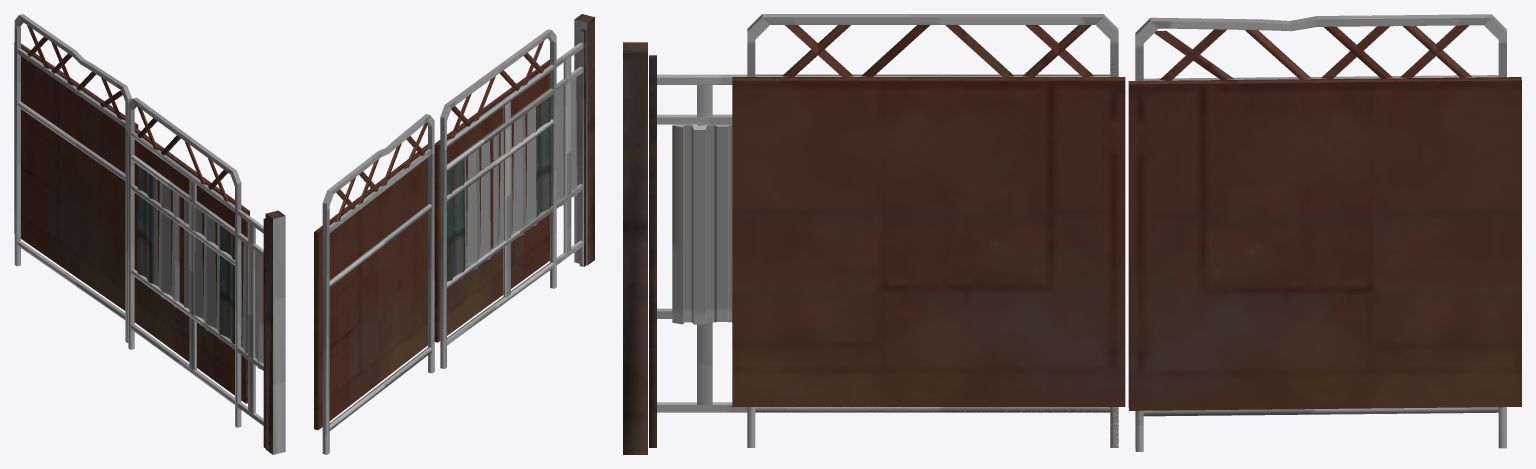
File: bz_gates_collection_01.fbx
The picture shows the model from 3 angles, left to right: view 1: azimuth 30°, elevation 25°; view 2: azimuth 150°, elevation 25°; view 3: azimuth 270°, elevation 25°; orthographic projection. The views are drawn at different scales.
Parts seen in each view (by area): view 1: bz_gates_02, bz_gates_01, bz_gates_03, bz_gates_04; view 2: bz_gates_02, bz_gates_01, bz_gates_03, bz_gates_04; view 3: bz_gates_02, bz_gates_01, bz_gates_03, bz_gates_04.
Boxes of the visible parts, x1,y1,x2,y2 form: bz_gates_02: (14,14,138,342); bz_gates_01: (128,97,249,427); bz_gates_03: (131,134,285,454); bz_gates_04: (137,165,263,368); bz_gates_02: (314,114,434,454); bz_gates_01: (434,29,556,368); bz_gates_03: (440,14,594,368); bz_gates_04: (447,77,576,286); bz_gates_02: (1128,14,1521,451); bz_gates_01: (732,14,1125,447); bz_gates_03: (623,42,1118,454); bz_gates_04: (672,124,732,324).
Size of the model in its own units: 0.1674 by 2.9 by 5.49.
